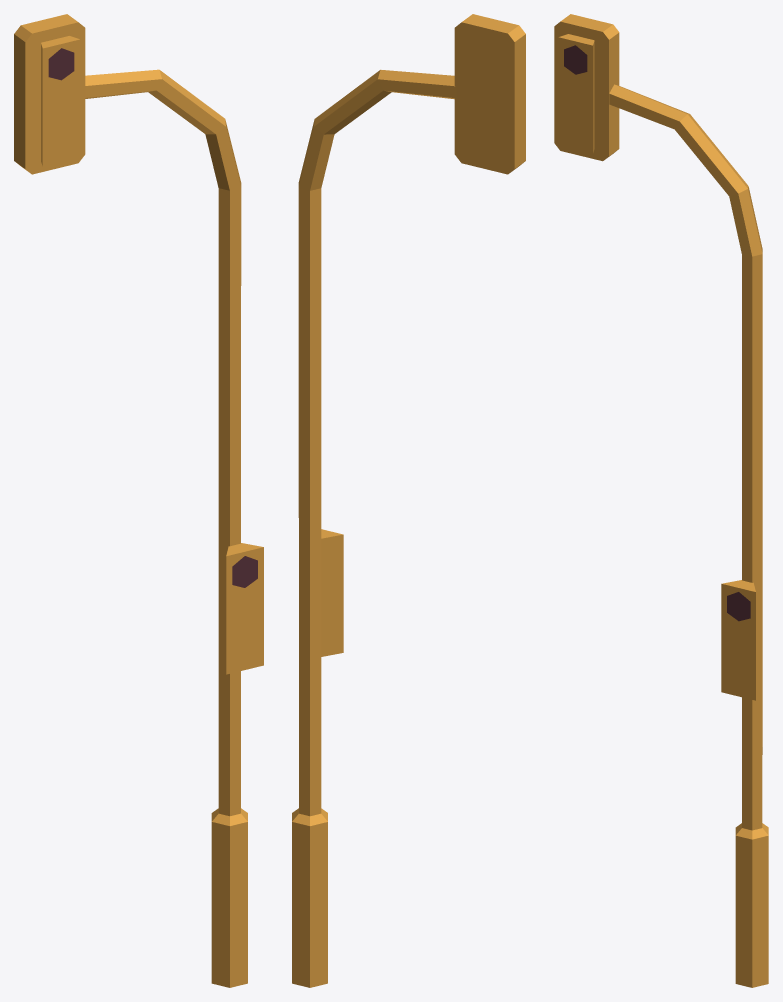
The model's file is traffic-light.fbx.
The picture shows the model from 3 angles, left to right: view 1: azimuth 30°, elevation 25°; view 2: azimuth 150°, elevation 25°; view 3: azimuth 330°, elevation 25°; orthographic projection. The views are drawn at different scales.
Visible parts, largest first — view 1: traffic-light; view 2: traffic-light; view 3: traffic-light.
Boxes of the visible parts, <box> form: traffic-light: <box>14,14,263,987</box>; traffic-light: <box>292,14,525,987</box>; traffic-light: <box>554,14,768,987</box>.
Bounding box in the file's own units: 2.23 × 9.27 × 0.4027.
